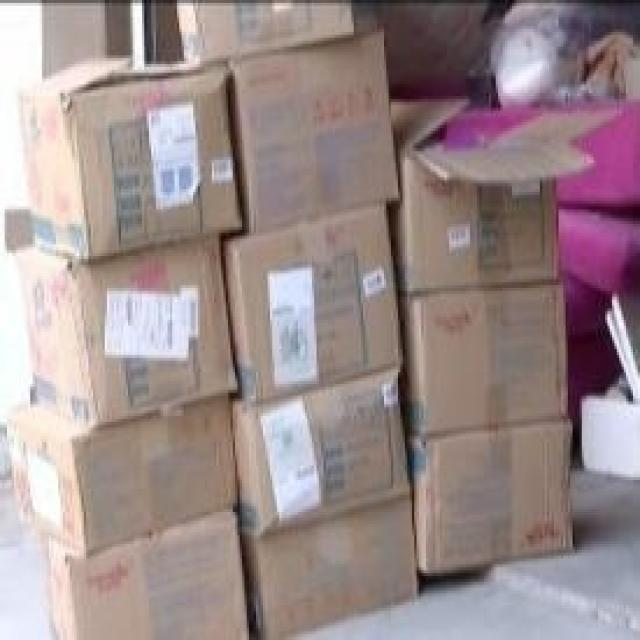box: (386, 99, 626, 297), (19, 61, 242, 262), (19, 236, 237, 428), (7, 393, 240, 559), (219, 204, 403, 404), (223, 26, 400, 233), (228, 367, 412, 538), (42, 506, 249, 640), (396, 282, 568, 439), (237, 495, 419, 640), (405, 419, 575, 573), (175, 0, 354, 67), (42, 0, 130, 79)
